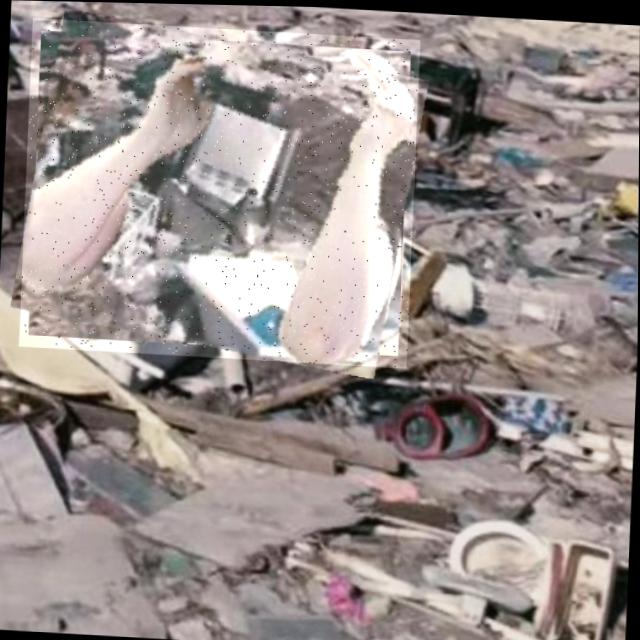Person in Rubble: (19, 17, 420, 366)
